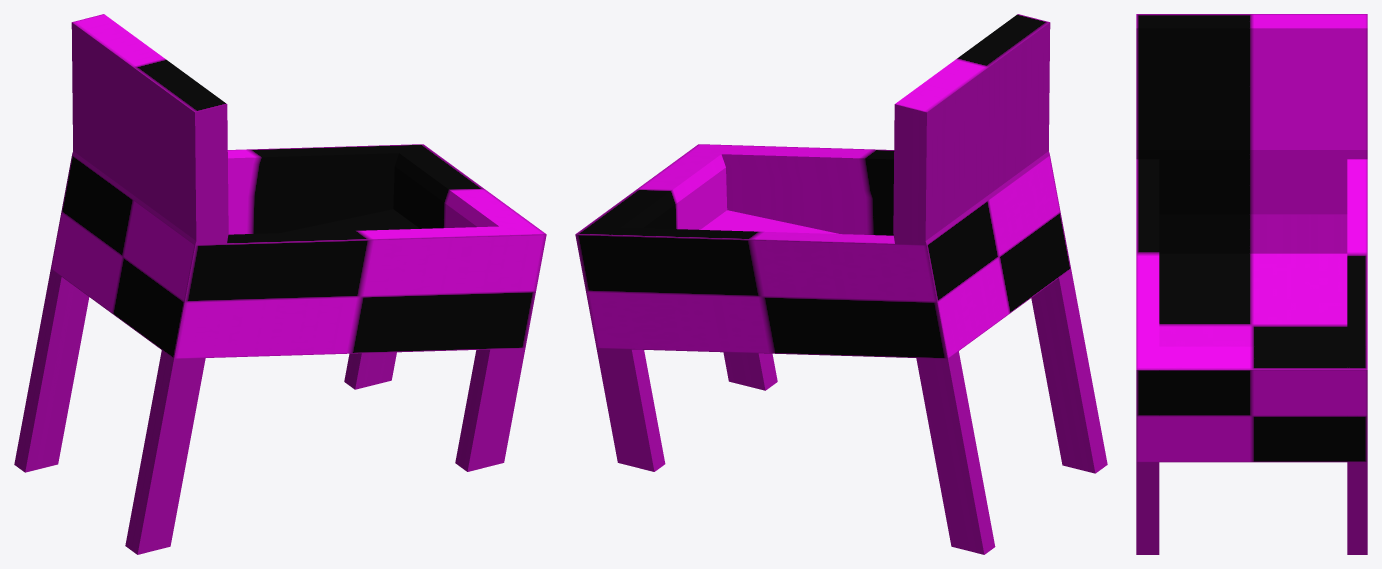
Rendered from fffdsa.glb.
3 views of the same model, side by side, from view 1: azimuth 30°, elevation 25°; view 2: azimuth 150°, elevation 25°; view 3: azimuth 270°, elevation 25° (orthographic). The views are drawn at different scales.
Parts seen in each view (by area): view 1: Cube; view 2: Cube; view 3: Cube.
Boxes of the visible parts, x1,y1,x2,y2 form: Cube: [14, 14, 546, 554]; Cube: [575, 14, 1107, 554]; Cube: [1136, 14, 1367, 554].
Size of the model in its own units: 3.23 by 3.23 by 1.68.
Materials: 2 (2 with a texture image).
